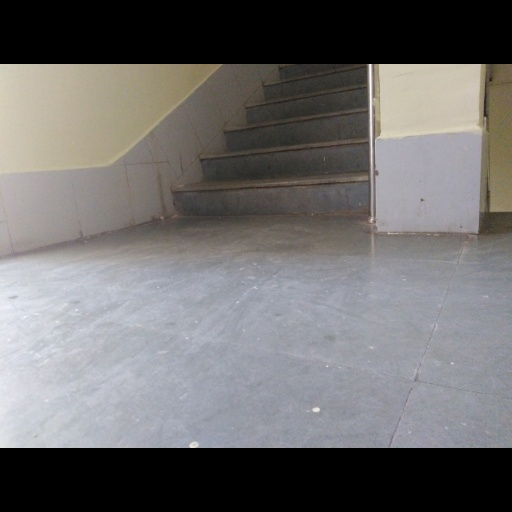Stairs: (174, 66, 369, 216)
